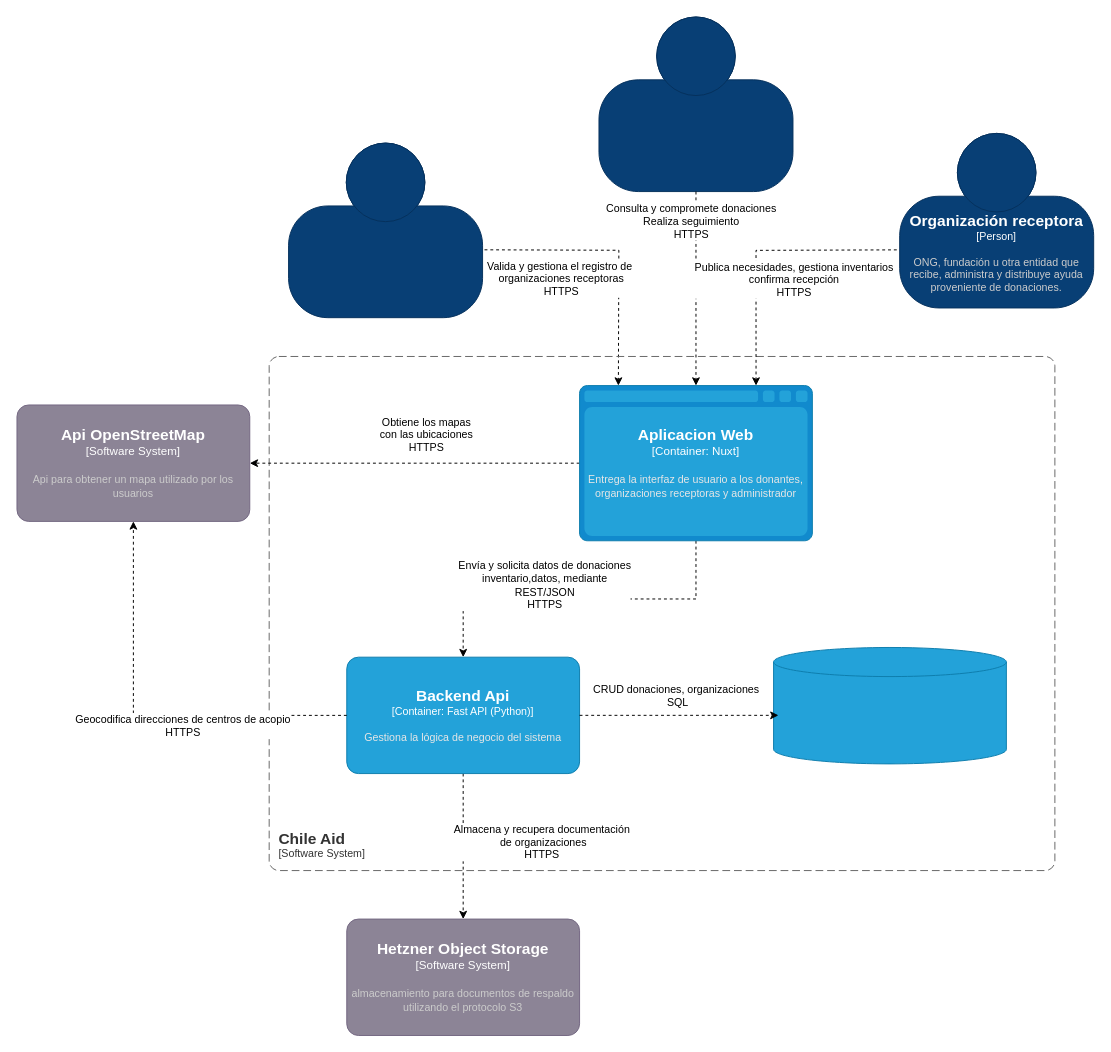
Some shapes in this 1111 by 1052 pixel diagram are drawn without their labels. Each missing label, with the centre of its shape:
"Administrador del sistema [Person] Responsable de administrar la plataforma" goes at pixel 385 230.
"Base de datos [Container: PostgresSQL] Almacena la información del sistema." goes at pixel 889 705.
"Donante particular [Person] Persona que realiza donaciones de recursos" goes at pixel 695 104.
